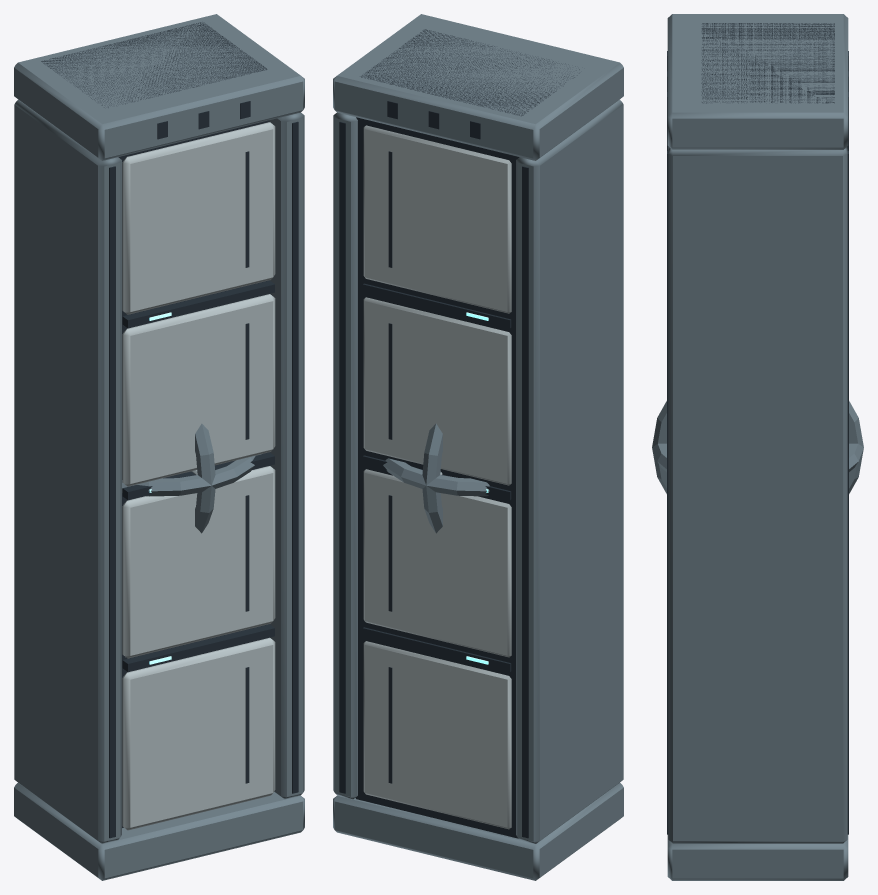
File: kit-low-v1.glb
3 renders of one model, left to right at view 1: azimuth 30°, elevation 25°; view 2: azimuth 150°, elevation 25°; view 3: azimuth 270°, elevation 25°, orthographic.
Visible parts, largest first — view 1: relay-fin_alloy, relay-fin_ceramic, relay-fin_graphite, reactor-core_alloy; view 2: relay-fin_alloy, relay-fin_ceramic, relay-fin_graphite, reactor-core_alloy, tactical-cover_alloy; view 3: relay-fin_alloy, relay-fin_graphite, reactor-core_alloy, tactical-cover_alloy.
Part boxes in pixels (x1,y1,x2,y2): relay-fin_alloy: [14, 14, 304, 880]; relay-fin_ceramic: [122, 122, 275, 830]; relay-fin_graphite: [41, 22, 298, 838]; reactor-core_alloy: [122, 423, 260, 533]; relay-fin_alloy: [333, 14, 623, 880]; relay-fin_ceramic: [363, 125, 511, 829]; relay-fin_graphite: [339, 29, 579, 838]; reactor-core_alloy: [383, 423, 489, 533]; tactical-cover_alloy: [571, 400, 591, 544]; relay-fin_alloy: [667, 14, 848, 880]; relay-fin_graphite: [667, 23, 848, 834]; reactor-core_alloy: [652, 401, 863, 493]; tactical-cover_alloy: [737, 432, 778, 514].
Size of the model in its own units: 4 by 14 by 3.5.
